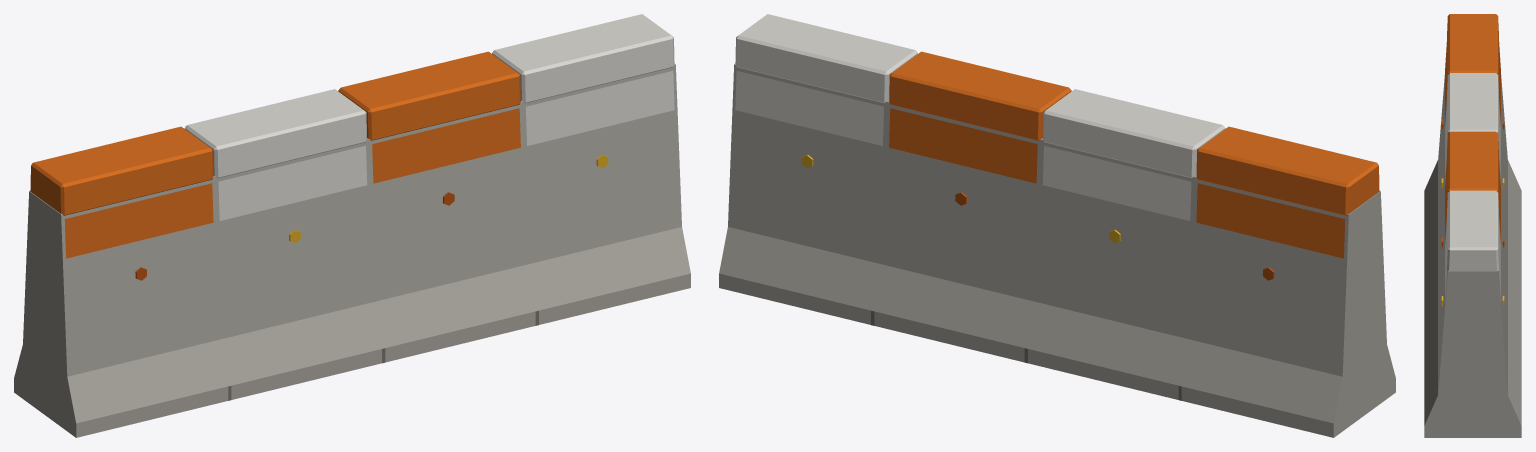
File: site-border.glb
3 renders of one model, left to right at view 1: azimuth 30°, elevation 25°; view 2: azimuth 150°, elevation 25°; view 3: azimuth 270°, elevation 25°, orthographic. The views are drawn at different scales.
Visible parts, largest first — view 1: site-border; view 2: site-border; view 3: site-border.
Boxes of the visible parts, x1,y1,x2,y2 form: site-border: [14, 14, 690, 437]; site-border: [719, 14, 1395, 437]; site-border: [1424, 14, 1521, 437].
Bounding box in the file's own units: 4 × 1.5 × 0.702.
